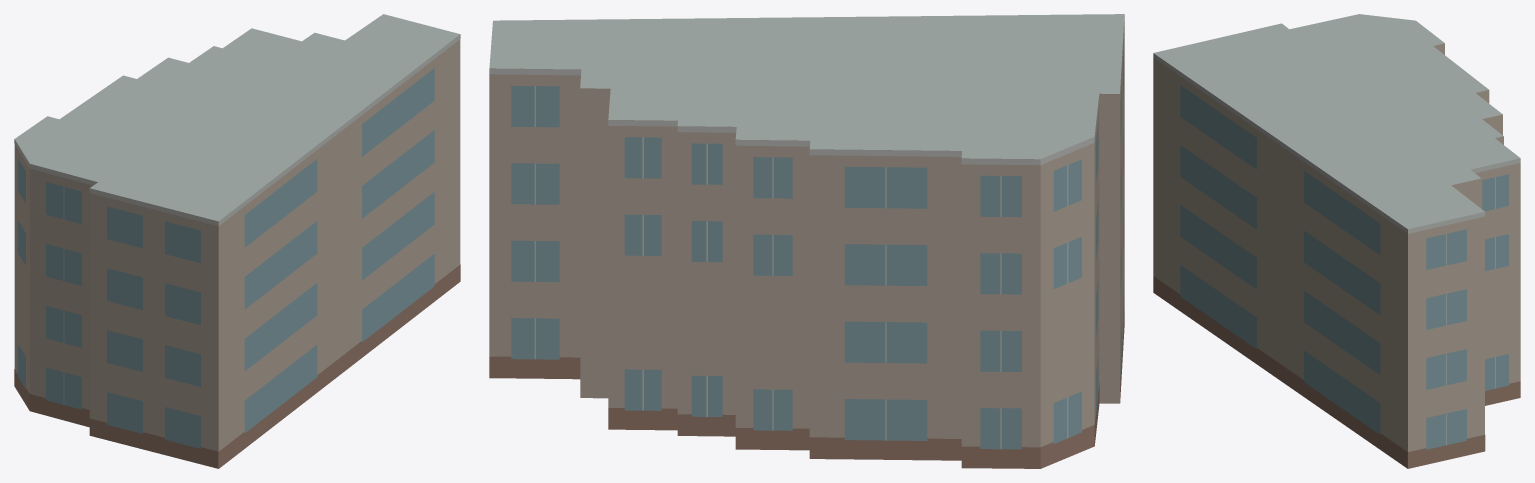
The model's file is survey-upis-32833307.glb.
The picture shows the model from 3 angles, left to right: view 1: azimuth 30°, elevation 25°; view 2: azimuth 150°, elevation 25°; view 3: azimuth 270°, elevation 25°; orthographic projection. The views are drawn at different scales.
Visible parts, largest first — view 1: survey-upis-32833307.tmp; view 2: survey-upis-32833307.tmp; view 3: survey-upis-32833307.tmp.
Boxes of the visible parts, bbox=[...] form: survey-upis-32833307.tmp: bbox=[14, 14, 460, 468]; survey-upis-32833307.tmp: bbox=[489, 14, 1124, 468]; survey-upis-32833307.tmp: bbox=[1153, 14, 1520, 468].
Bounding box in the file's own units: 24.29 × 12.6 × 17.52.
